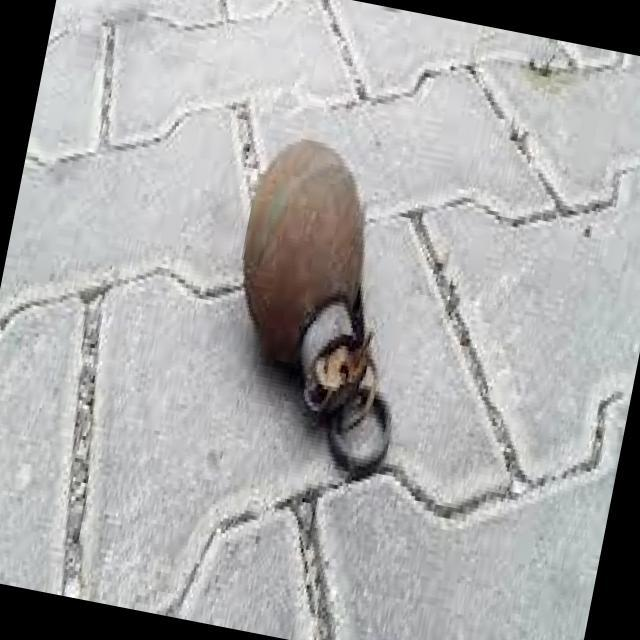grenade: (194, 136, 445, 500)
